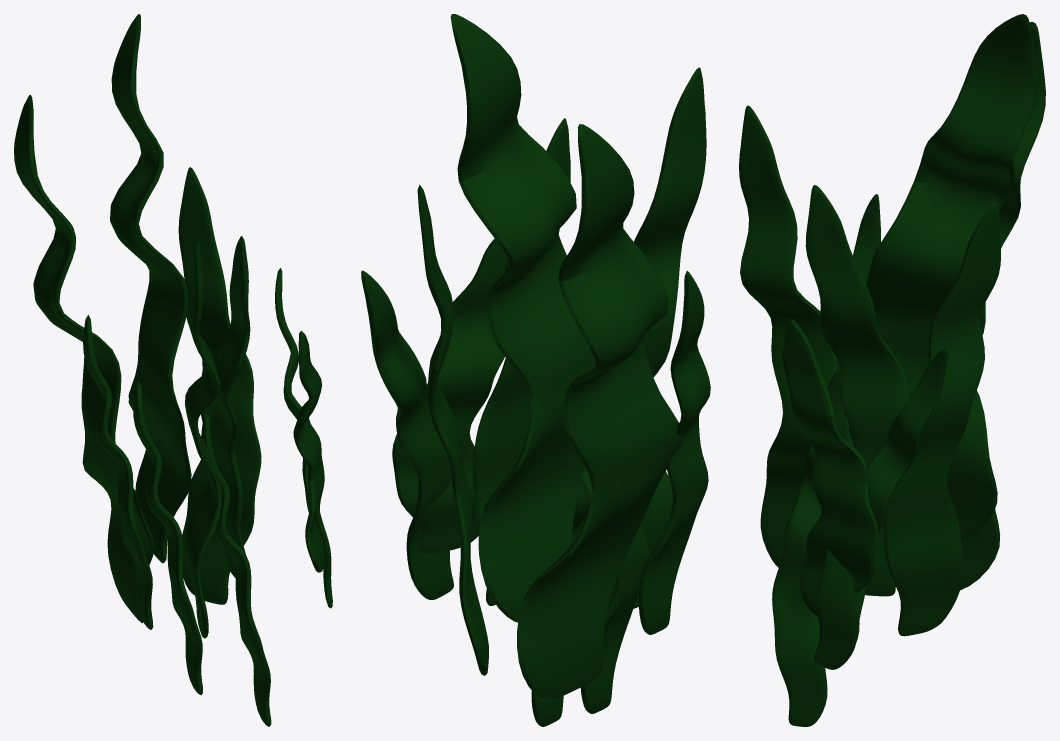
3 views of the same model, side by side, from view 1: azimuth 30°, elevation 25°; view 2: azimuth 150°, elevation 25°; view 3: azimuth 270°, elevation 25° (orthographic). The views are drawn at different scales.
Visible parts, largest first — view 1: head; view 2: head; view 3: head.
Boxes of the visible parts, left/top/right/bottom form: head: left=14, top=14, right=332, bottom=726; head: left=361, top=14, right=710, bottom=726; head: left=739, top=14, right=1045, bottom=726.
Bounding box in the file's own units: 25.54 × 25.67 × 64.56.
